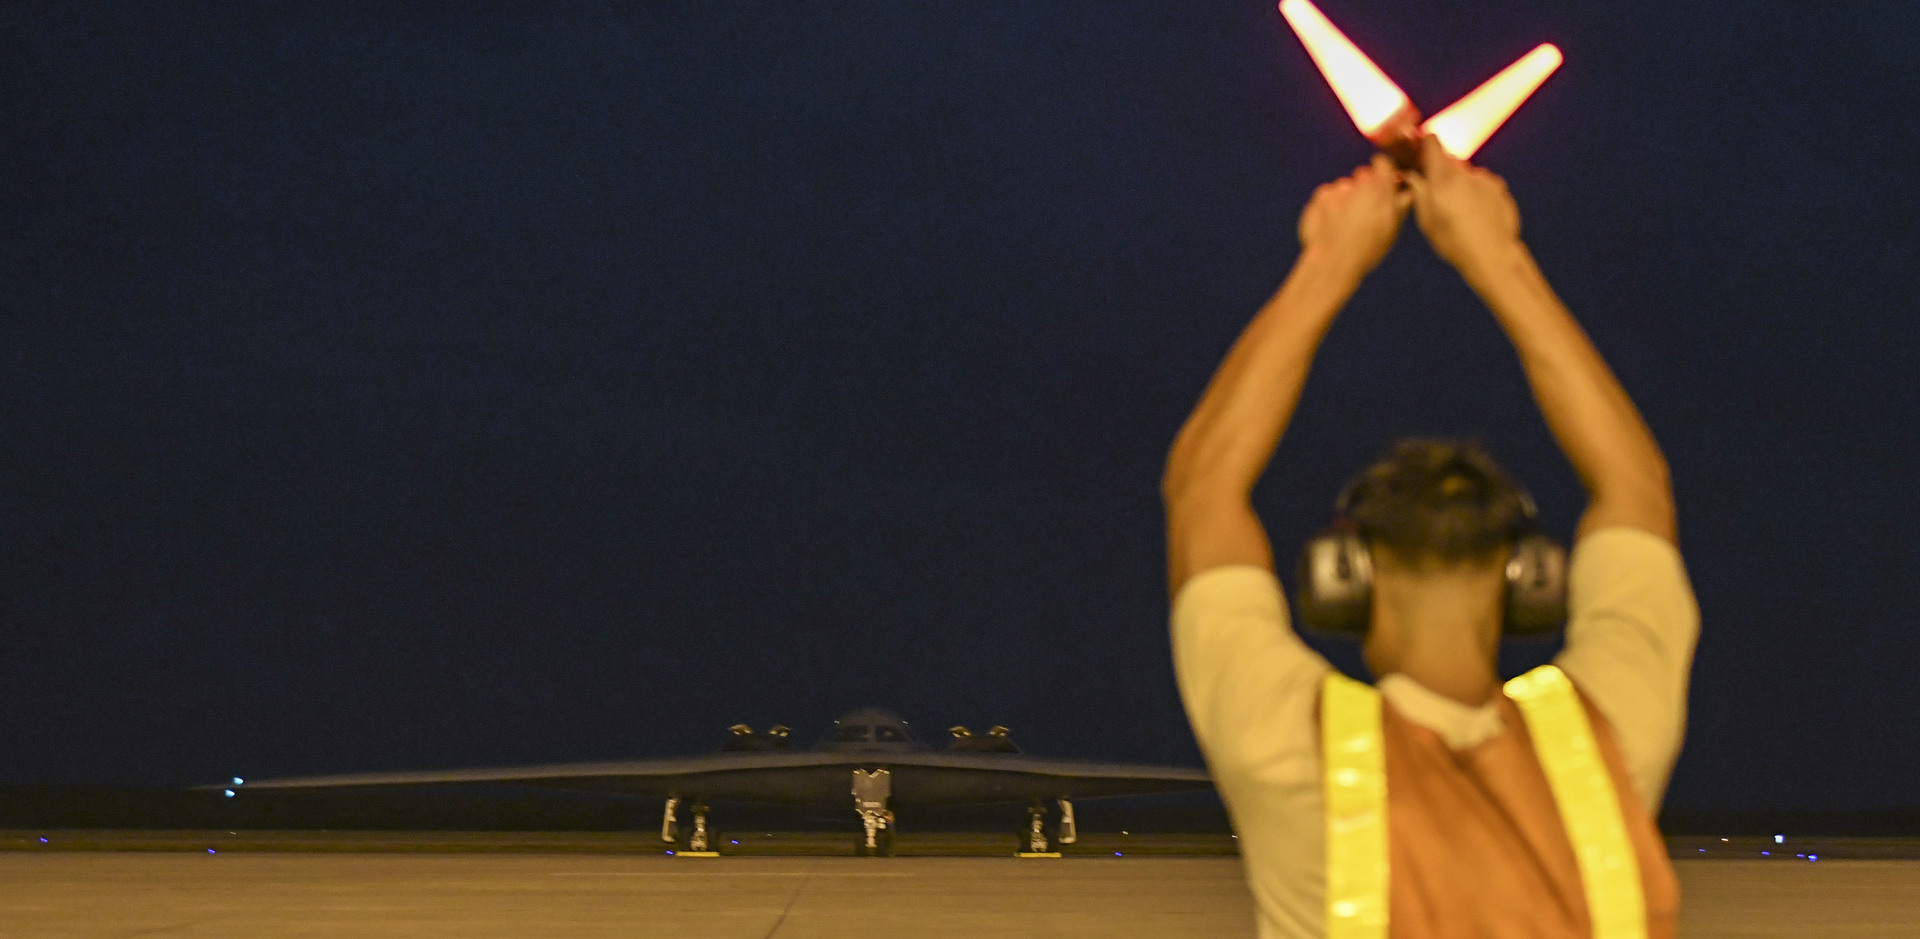B2: (184, 705, 1212, 857)
